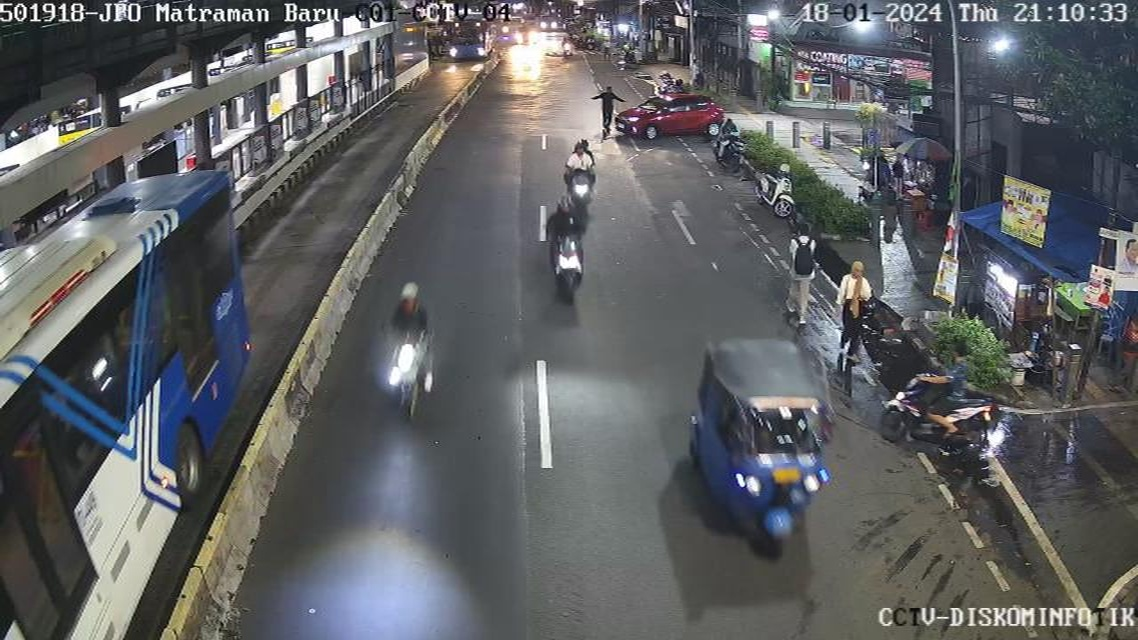Gerobak: (960, 254, 1049, 335)
